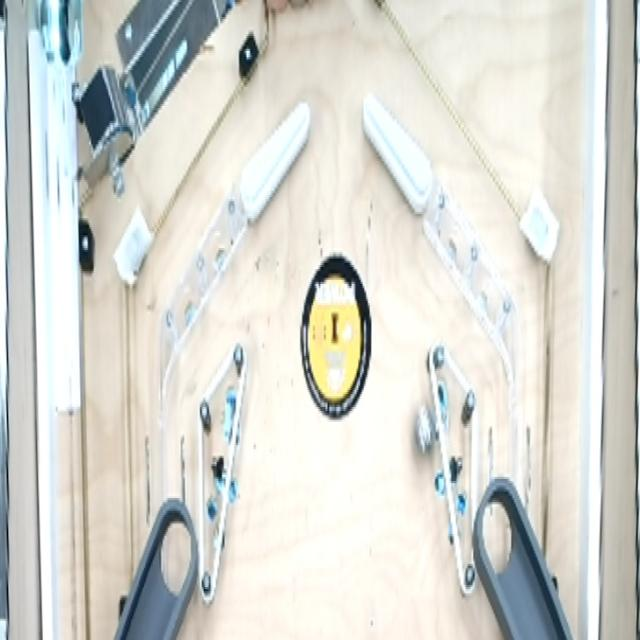ball: (406, 399, 440, 473)
flipper-left: (357, 84, 441, 226)
flipper-right: (237, 90, 315, 228)
